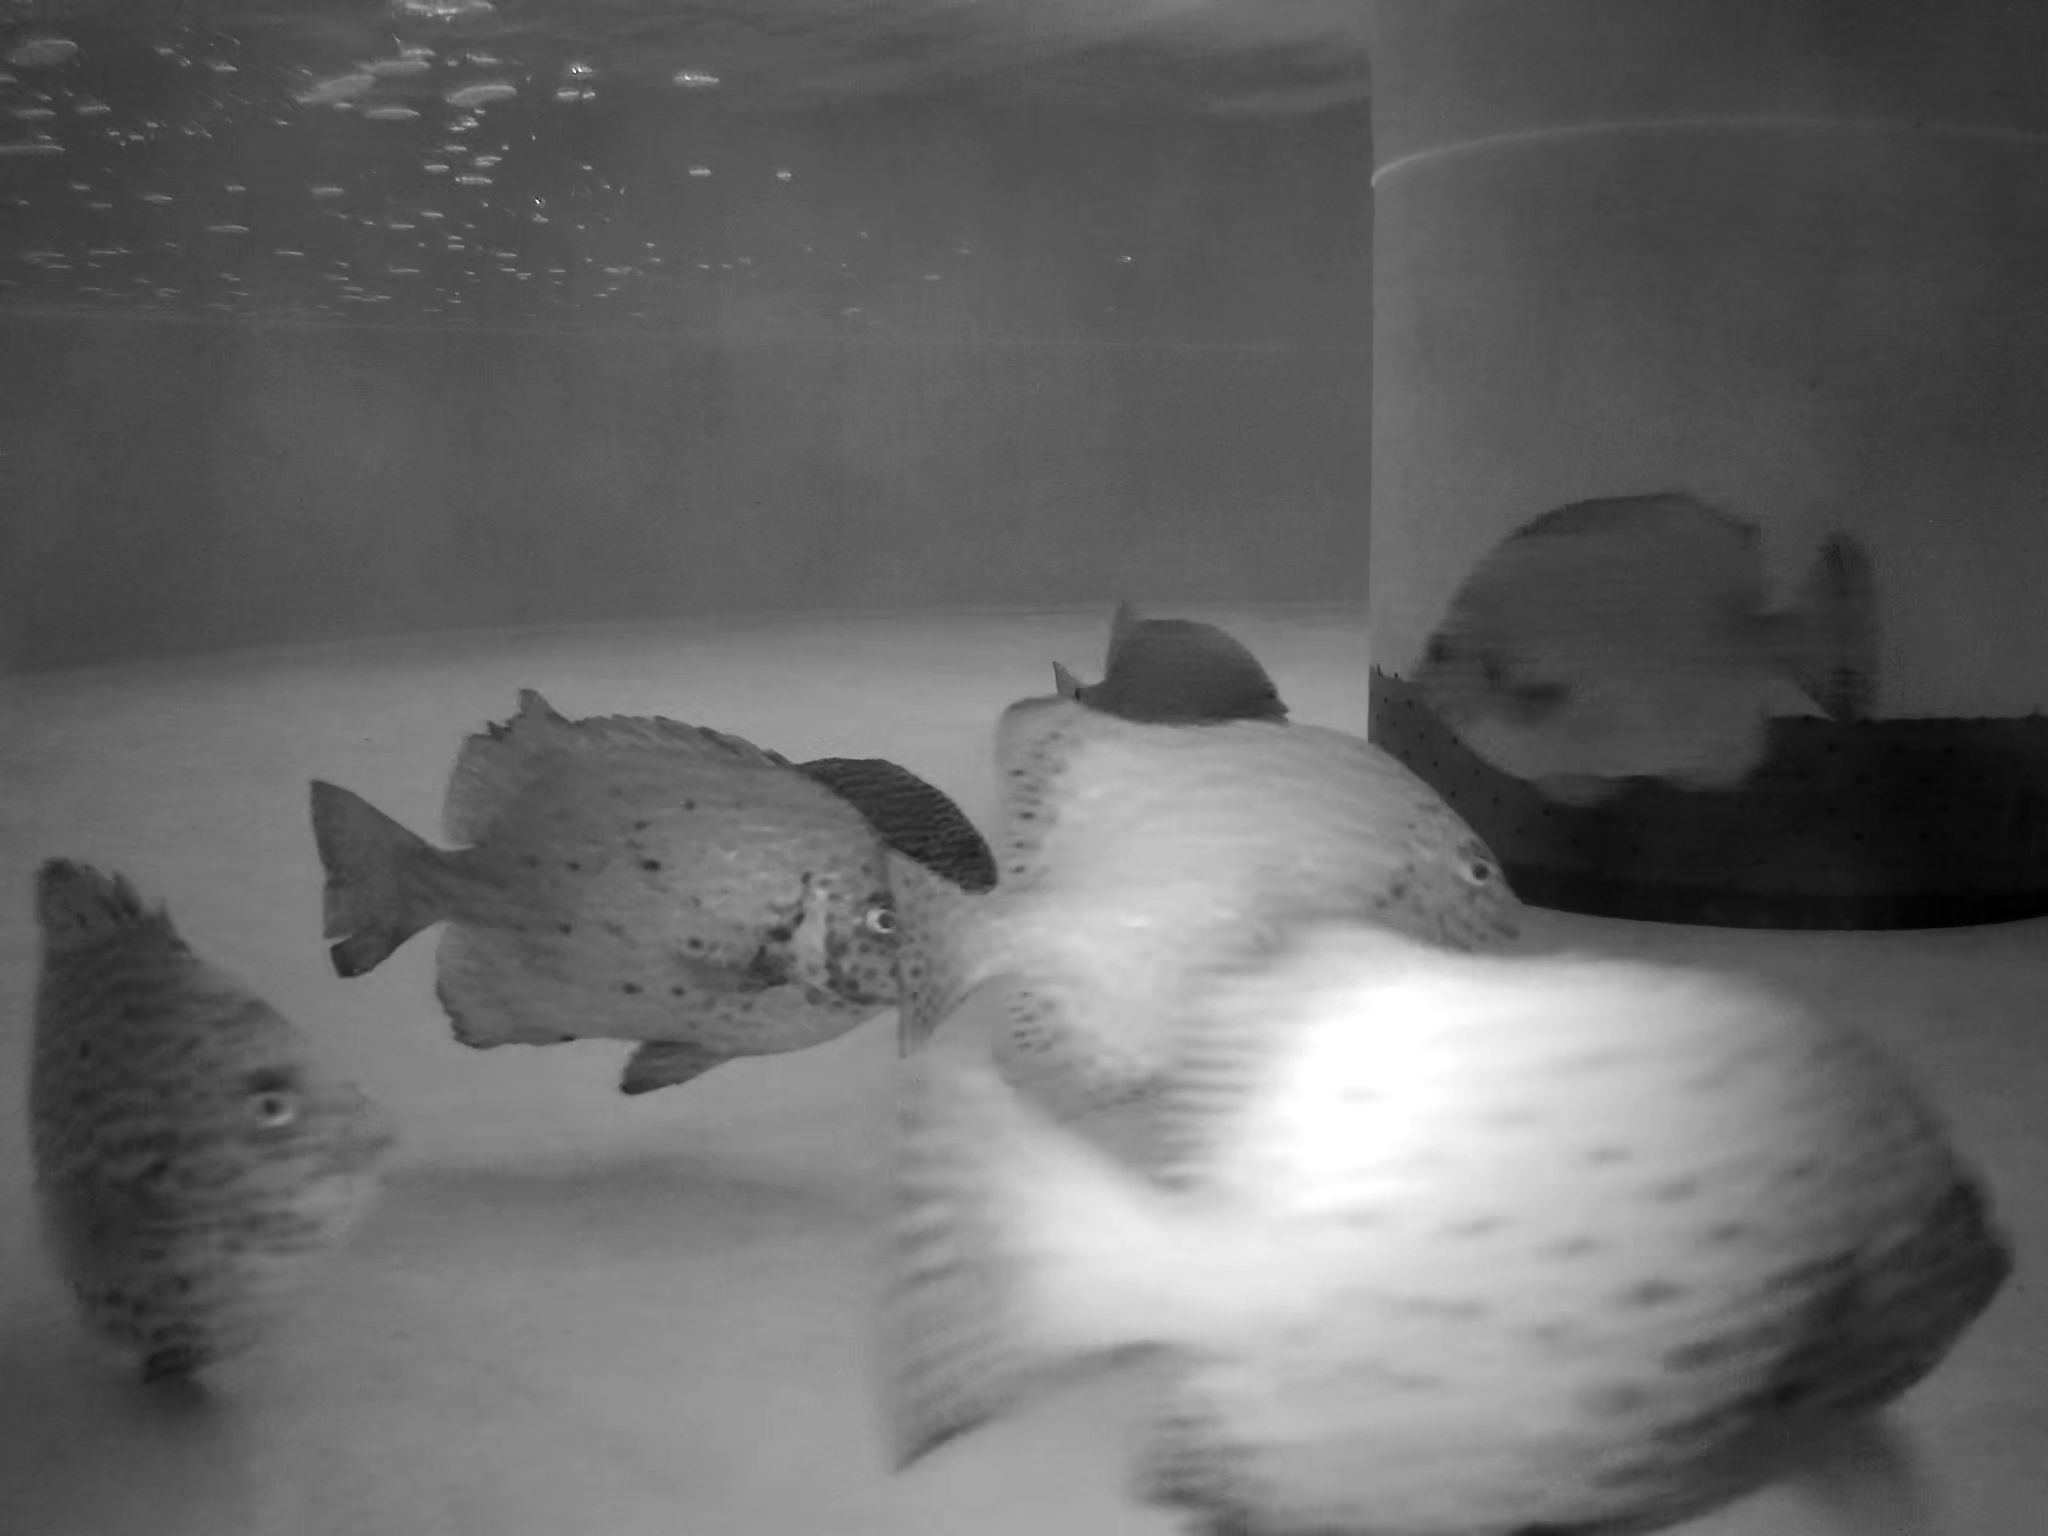fish: (851, 931, 2029, 1536), (866, 691, 1517, 1126), (290, 710, 974, 1099), (27, 841, 414, 1397), (1408, 479, 1884, 821), (734, 749, 1003, 947), (1034, 597, 1292, 787)
